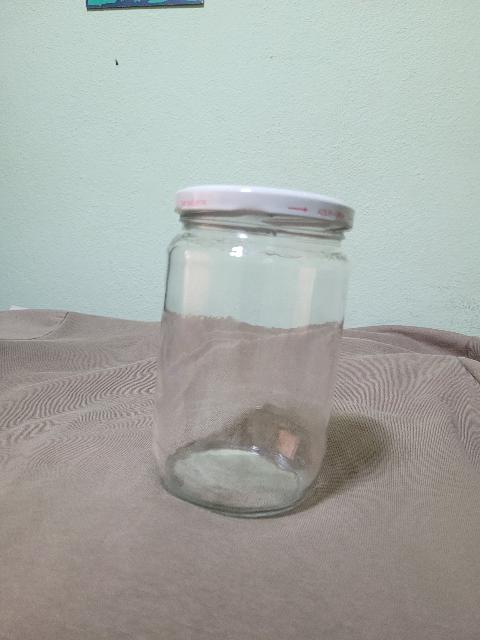Cam: (151, 231, 354, 518)
Metal: (172, 179, 360, 232)
